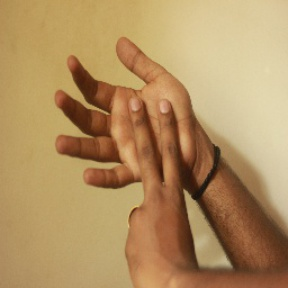N: (48, 30, 198, 230)
